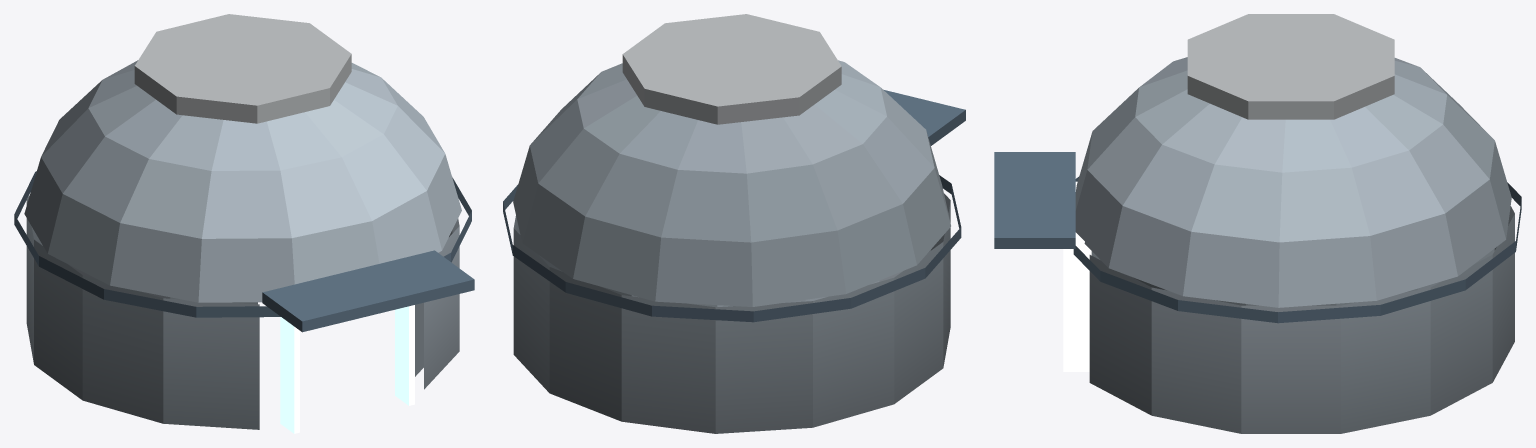
Rendered from shaddai_dist_arctic_home_a_v01.glb.
3 views of the same model, side by side, from view 1: azimuth 30°, elevation 25°; view 2: azimuth 150°, elevation 25°; view 3: azimuth 270°, elevation 25° (orthographic). The views are drawn at different scales.
Parts seen in each view (by area): view 1: shaddai_dist_arctic_home_a; view 2: shaddai_dist_arctic_home_a; view 3: shaddai_dist_arctic_home_a.
Part boxes in pixels (x1,y1,x2,y2): shaddai_dist_arctic_home_a: (14, 14, 474, 433); shaddai_dist_arctic_home_a: (503, 14, 965, 433); shaddai_dist_arctic_home_a: (994, 14, 1521, 433).
Bounding box in the file's own units: 11.48 × 7.7 × 12.97.
